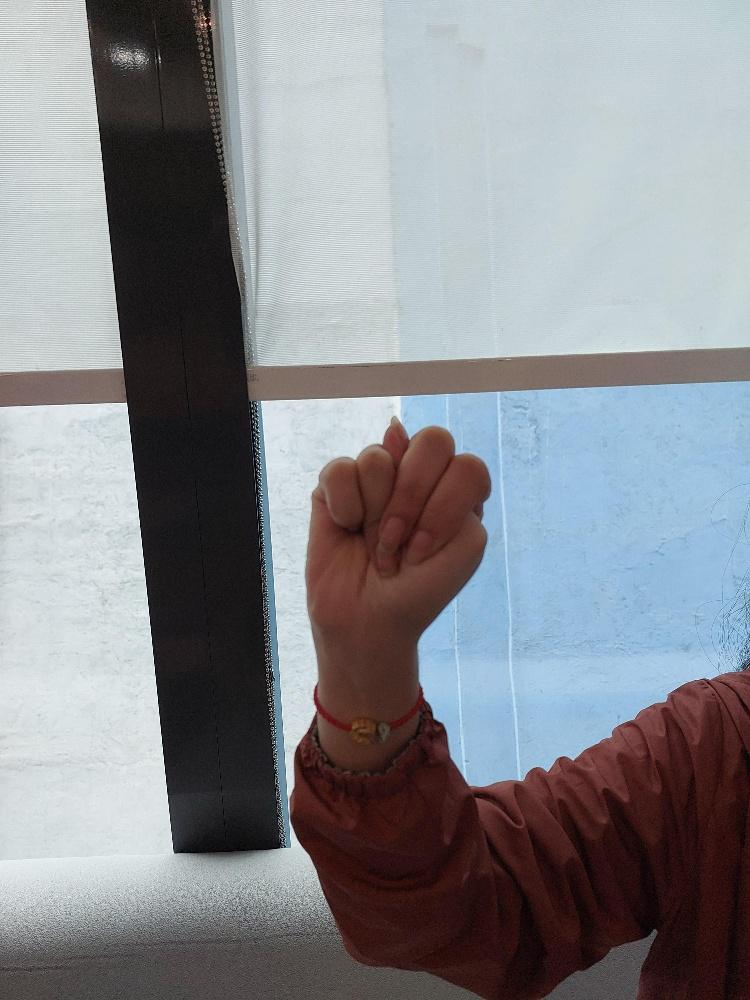n: (299, 409, 491, 646)
